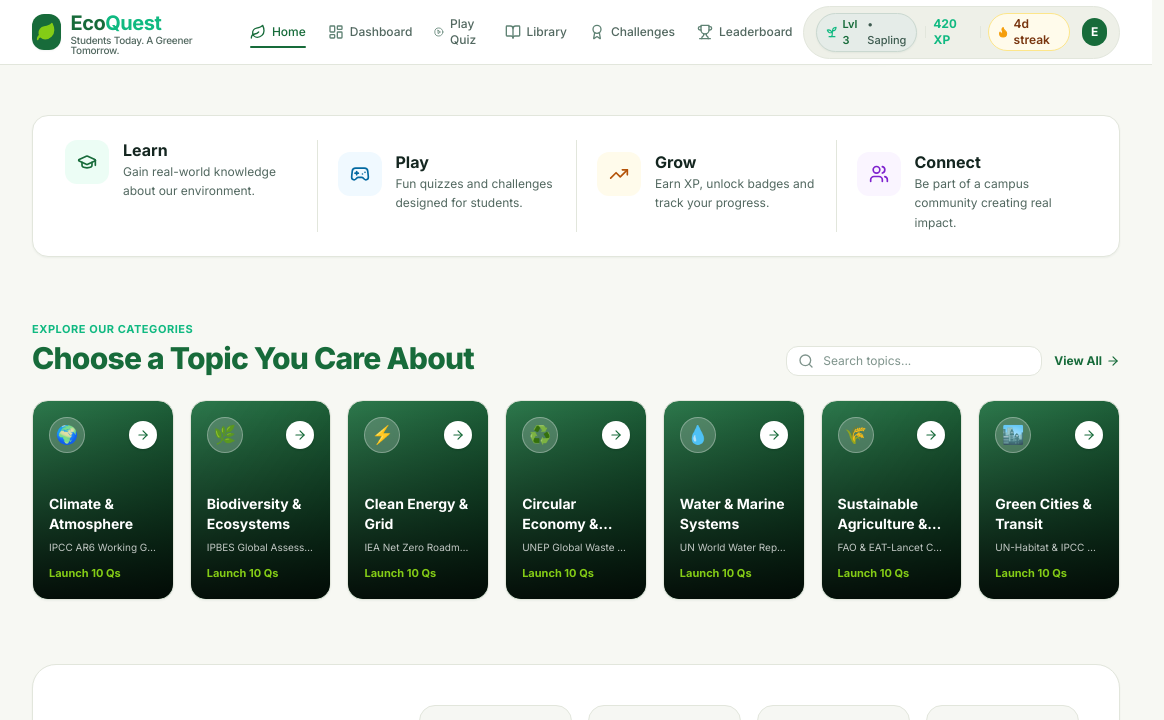
Test case: Stage 4 — Landing Page & Public UX Verification › filters categories using topic search bar and shows empty state when no match is found
(page scrolled)
# Search for "ocean"
Type "ocean" into the field named "Search environmental topics" at point(914, 360), box [786, 346, 1042, 376]
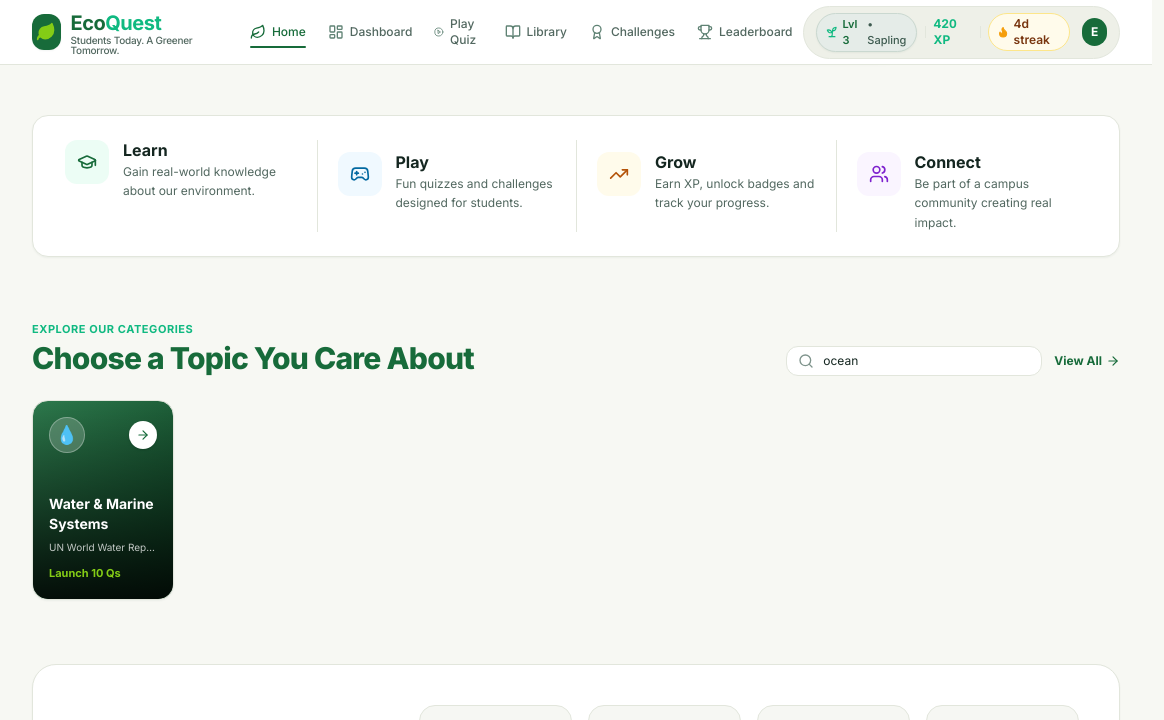
Expected: the heading "Water & Marine Systems" is shown, [49, 494, 157, 534]
Expected: the heading "Clean Energy & Grid" is gone
# Search for non-existent keyword
Replace the text in the field named "Search environmental topics" with "quantum teleportation" at point(914, 360), box [786, 346, 1042, 376]
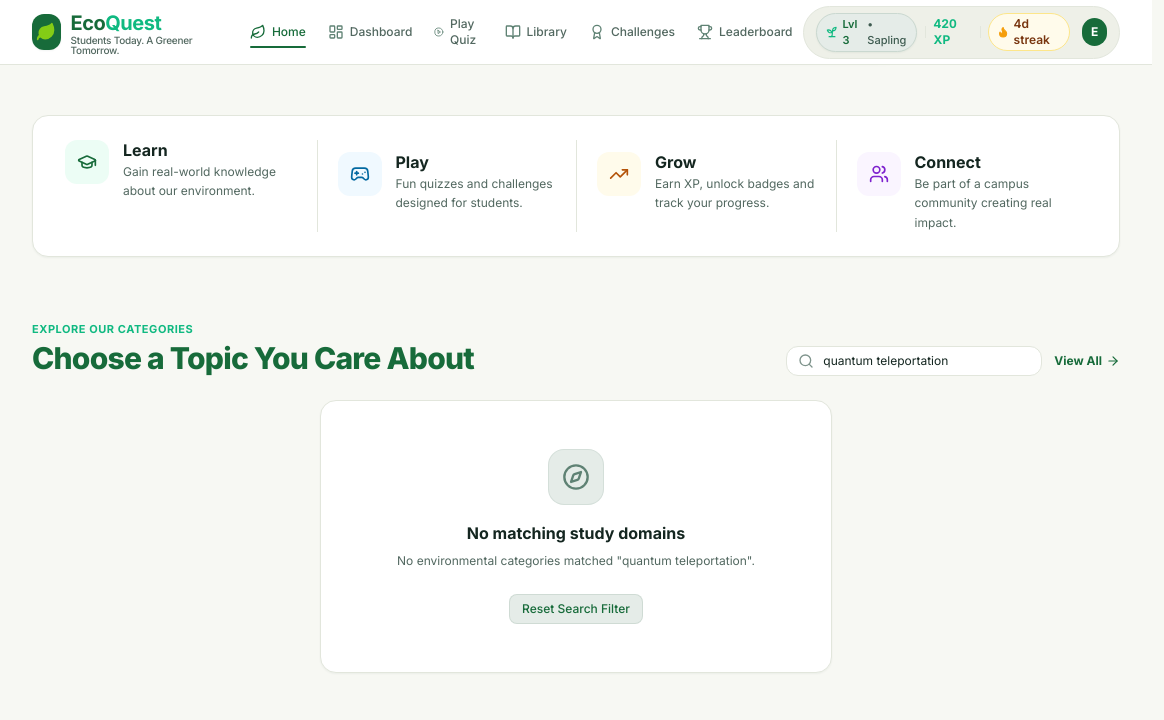
Expected: the heading "No matching study domains" is shown, [467, 522, 685, 542]
# Click "Reset Search Filter"
Click the button "Reset Search Filter" at point(576, 609), box [509, 594, 643, 624]
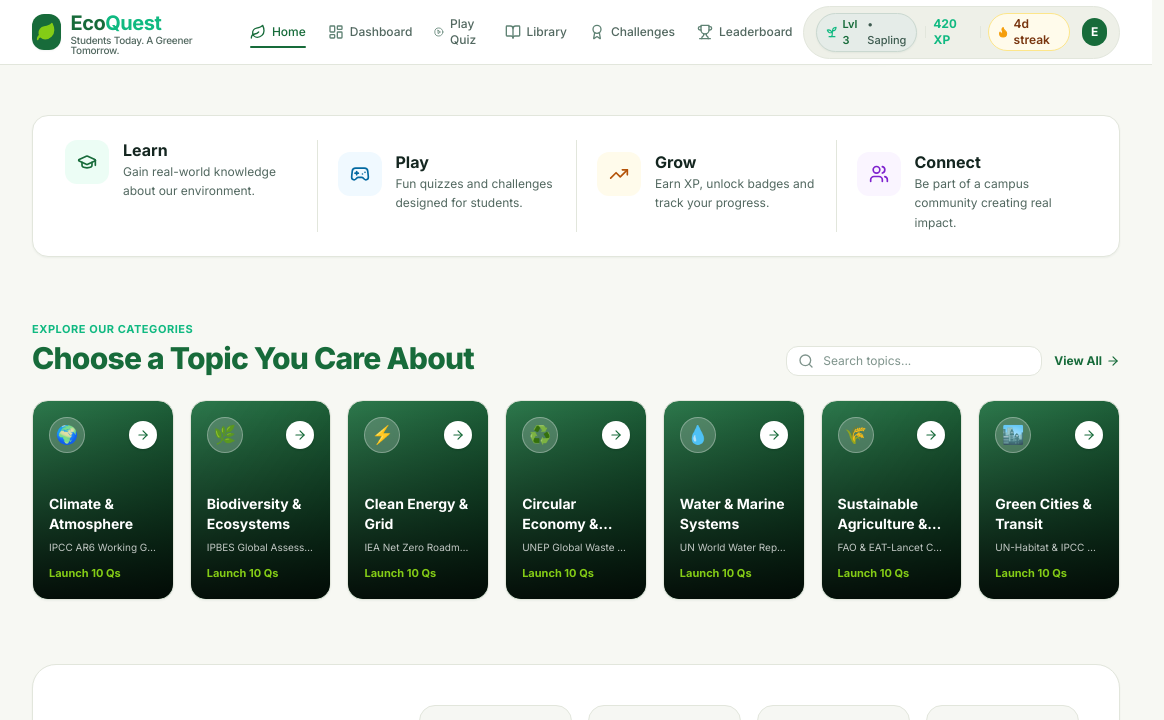
Expected: the heading "Climate & Atmosphere" is shown, [49, 494, 133, 532]
Expected: the heading "Clean Energy & Grid" is shown, [364, 494, 472, 534]
